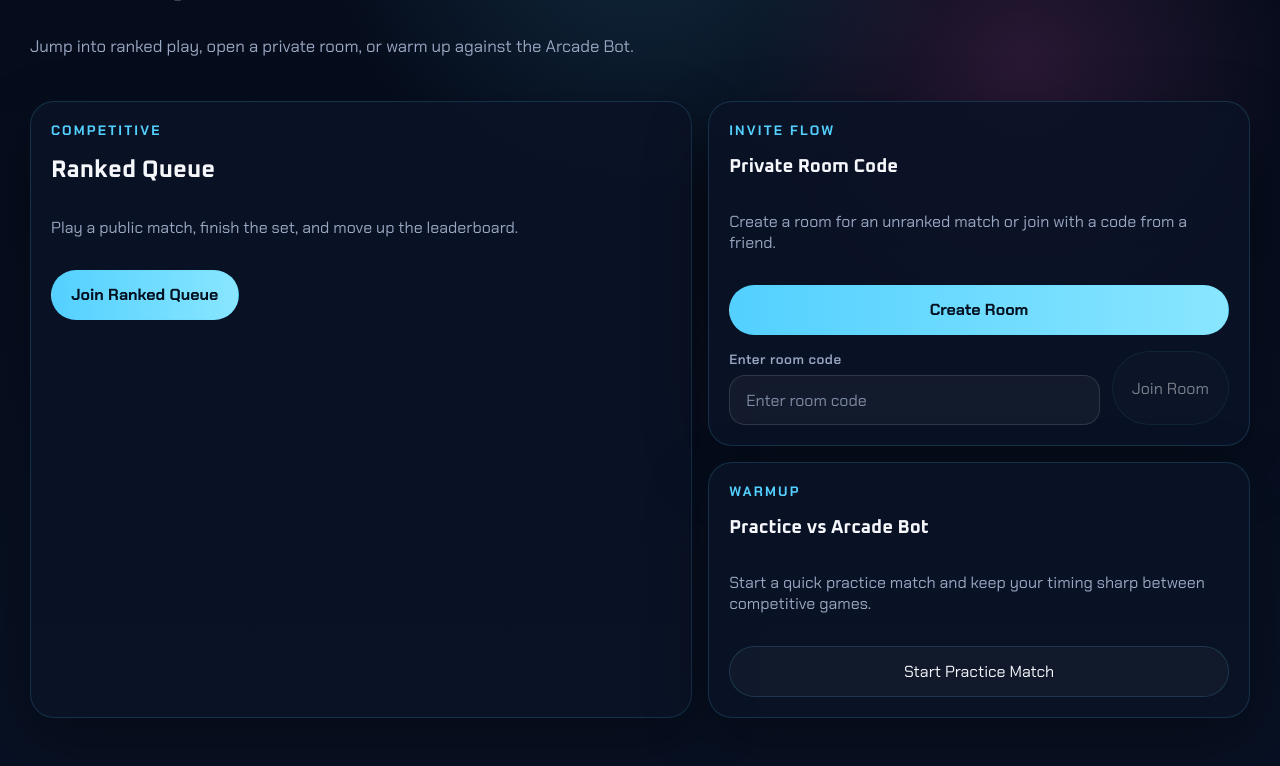
it: PlayPage › surfaces practice join errors from the direct warmup button
(page scrolled)
Step 1. Click the button "Start Practice Match" → (979,672), box x1=729 y1=646 x2=1229 y2=697
(page scrolled)
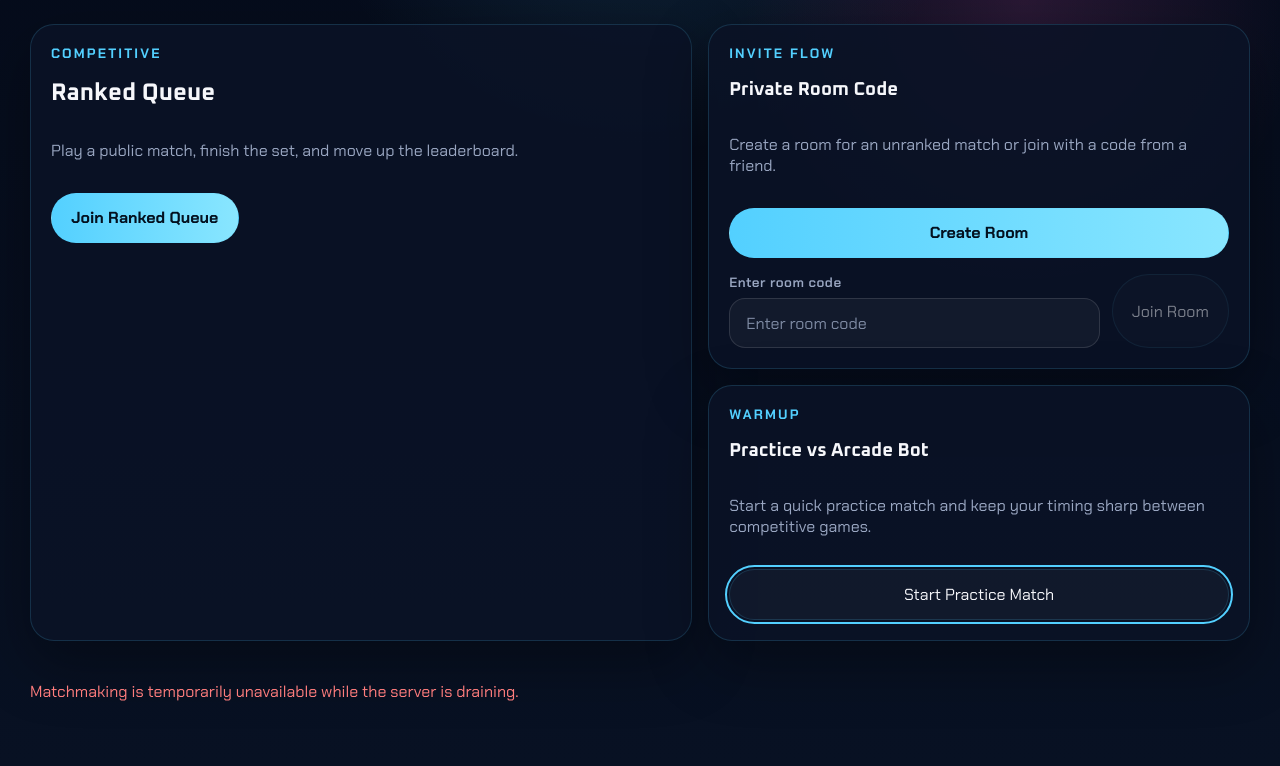
Expected: the text "Matchmaking is temporarily unavailable while the server is draining" is shown, x1=30 y1=681 x2=519 y2=702
